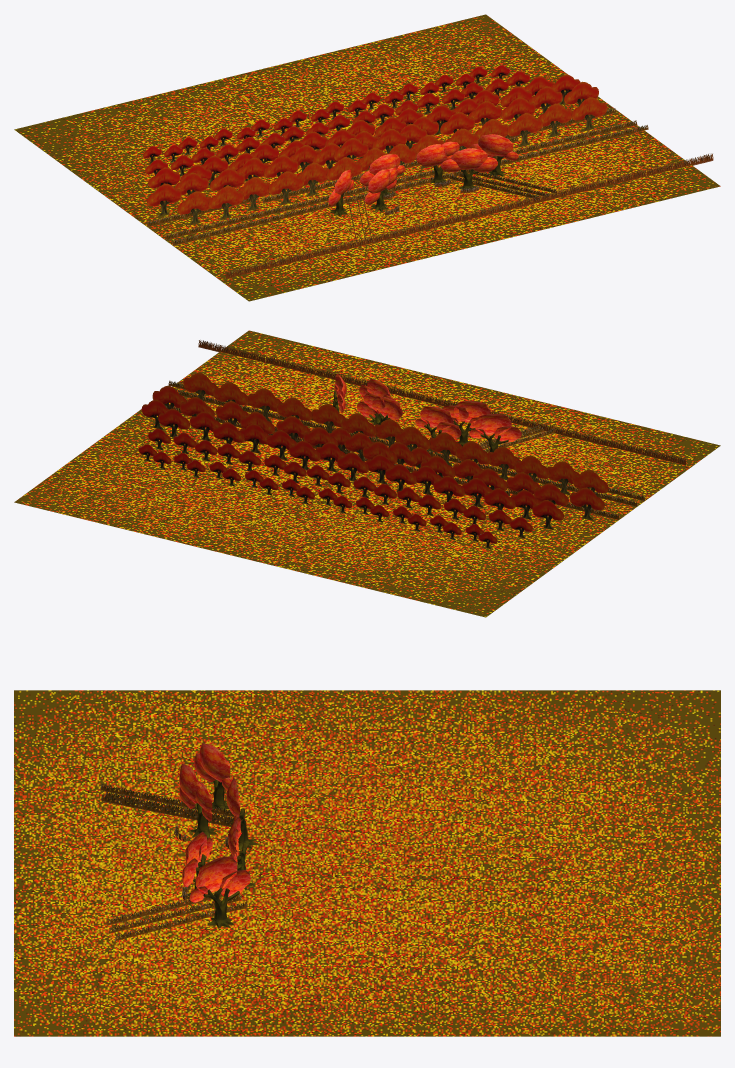
File: bg_317_forestF.fbx
3 renders of one model, top to bottom at view 1: azimuth 30°, elevation 25°; view 2: azimuth 150°, elevation 25°; view 3: azimuth 270°, elevation 25°, orthographic. The views are drawn at different scales.
Visible parts, largest first — view 1: ground, pPlane65, pPlane321, pPlane323, pPlane325, pPlane326, pPlane330, pPlane322, Leaf15, Leaf11, pPlane324, pPlane183 (+12 smaller); view 2: ground, pPlane330, Leaf15, pPlane323, pPlane321, pPlane188, pPlane324, pPlane322, pPlane184, pPlane183, pPlane187, pPlane65 (+25 smaller); view 3: ground, Leaf15 (×2), wood3D10.
Boxes of the visible parts, x1,y1,x2,y2 form: ground: (14, 14, 720, 301); pPlane65: (268, 171, 303, 205); pPlane321: (571, 97, 607, 131); pPlane323: (506, 113, 542, 147); pPlane325: (208, 186, 243, 219); pPlane326: (177, 191, 211, 225); pPlane330: (146, 183, 181, 216); pPlane322: (538, 103, 572, 137); Leaf15: (478, 134, 513, 156); Leaf11: (451, 148, 487, 169); pPlane324: (237, 177, 270, 211); pPlane183: (296, 162, 329, 196); ground: (14, 330, 720, 617); pPlane330: (570, 487, 604, 520); Leaf15: (474, 414, 511, 435); pPlane323: (248, 388, 282, 422); pPlane321: (183, 372, 217, 405); pPlane188: (311, 404, 345, 432); pPlane324: (514, 455, 550, 481); pPlane322: (213, 382, 249, 405); pPlane184: (429, 432, 462, 466); pPlane183: (455, 441, 491, 464); pPlane187: (341, 413, 377, 436); pPlane65: (488, 446, 520, 479); ground: (14, 690, 720, 1036); Leaf15 (×2): (195, 743, 237, 892); wood3D10: (203, 887, 239, 928).
Size of the model in its own units: 5395 by 440 by 4447.
